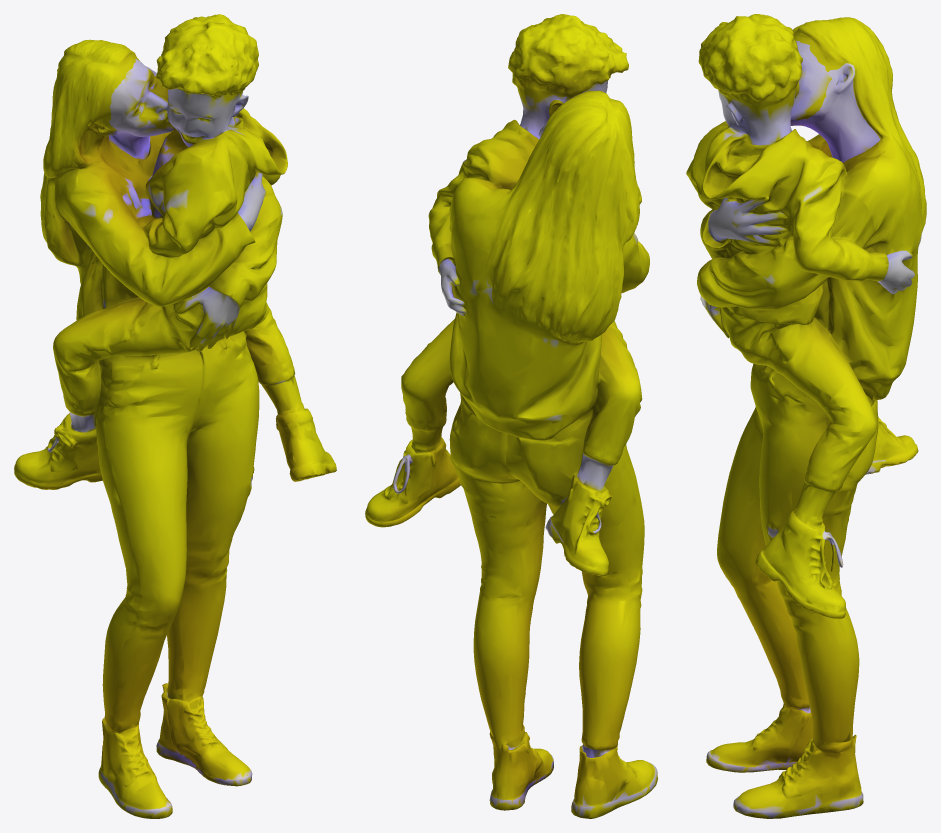
File: fabienne.glb
The picture shows the model from 3 angles, left to right: view 1: azimuth 30°, elevation 25°; view 2: azimuth 150°, elevation 25°; view 3: azimuth 270°, elevation 25°; orthographic projection. The views are drawn at different scales.
Parts seen in each view (by area): view 1: person; view 2: person; view 3: person.
Part boxes in pixels (x1=…): person: x1=14, y1=14, x2=336, y2=818; person: x1=365, y1=14, x2=657, y2=818; person: x1=686, y1=14, x2=926, y2=818.
Size of the model in its own units: 0.654 by 1.71 by 0.4783.
